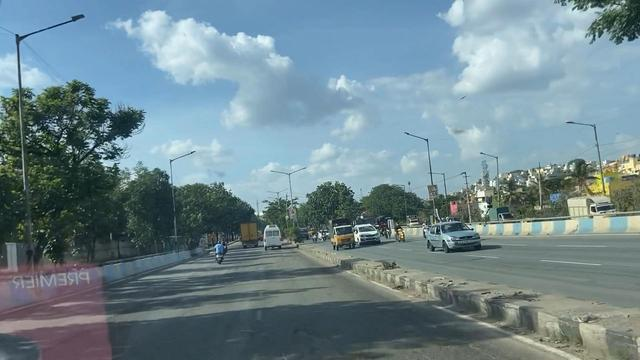HMV: (240, 222, 262, 245), (263, 225, 283, 250)
LMV: (211, 240, 230, 268)
RoadDamages: (214, 300, 330, 360), (353, 331, 486, 360)
